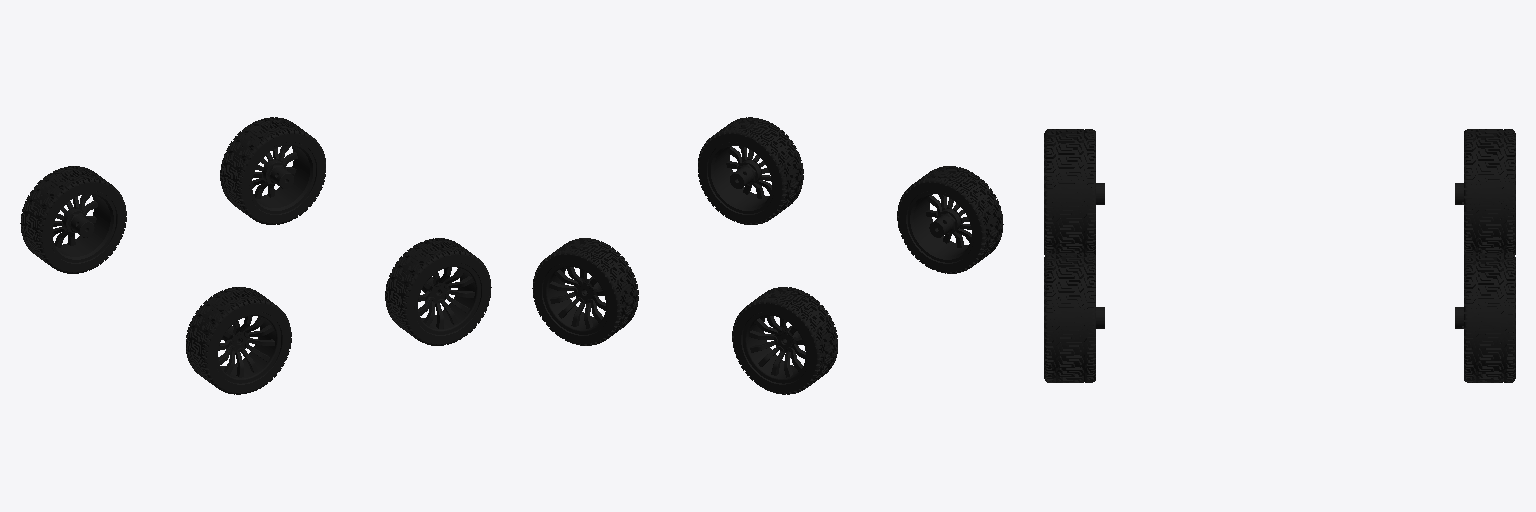
The robot description file, URDF, robot "ratze":
<robot name="ratze" version="1.0">
  <joint name="base_link_joint" type="fixed">
    <origin rpy="0.00000 0.00000 0.00000" xyz="-0.00000 0.00000 0.00000"/>
    <parent link="base_link"/>
    <child link="base_joint"/>
  </joint>
  <joint name="motor_2_joint" type="continuous">
    <limit effort="0.00000" velocity="0.00000"/>
    <origin rpy="0.00000 0.00000 0.00000" xyz="0.07687 0.11040 0.02150"/>
    <parent link="base_joint"/>
    <child link="motor_2"/>
    <axis xyz="0.00000 1.00000 0.00000"/>
  </joint>
  <joint name="ray_6" type="fixed">
    <origin rpy="0.00000 0.00000 1.04720" xyz="0.11600 0.05959 0.07143"/>
    <parent link="base_joint"/>
    <child link="ray_6_link"/>
  </joint>
  <joint name="ray_7" type="fixed">
    <origin rpy="0.00000 0.00000 1.57080" xyz="0.08072 0.06952 0.07143"/>
    <parent link="base_joint"/>
    <child link="ray_7_link"/>
  </joint>
  <joint name="motor_3_joint" type="continuous">
    <limit effort="0.00000" velocity="0.00000"/>
    <origin rpy="0.00000 0.00000 0.00000" xyz="-0.07688 0.11039 0.02150"/>
    <parent link="base_joint"/>
    <child link="motor_3"/>
    <axis xyz="0.00000 1.00000 0.00000"/>
  </joint>
  <joint name="motor_4_joint" type="continuous">
    <limit effort="0.00000" velocity="0.00000"/>
    <origin rpy="0.00000 0.00000 0.00000" xyz="-0.07688 -0.11040 0.02149"/>
    <parent link="base_joint"/>
    <child link="motor_4"/>
    <axis xyz="0.00000 -1.00000 0.00000"/>
  </joint>
  <joint name="motor_joint_1" type="continuous">
    <limit effort="0.00000" velocity="0.00000"/>
    <origin rpy="0.00000 0.00000 0.00000" xyz="0.07687 -0.11040 0.02149"/>
    <parent link="base_joint"/>
    <child link="motor_1"/>
    <axis xyz="0.00000 -1.00000 0.00000"/>
  </joint>
  <joint name="ray_1" type="fixed">
    <origin rpy="0.00000 0.00000 -1.57080" xyz="0.08177 -0.06874 0.07143"/>
    <parent link="base_joint"/>
    <child link="ray_1_link"/>
  </joint>
  <joint name="ray_2" type="fixed">
    <origin rpy="0.00000 0.00000 -1.04720" xyz="0.11585 -0.05960 0.07143"/>
    <parent link="base_joint"/>
    <child link="ray_2_link"/>
  </joint>
  <joint name="ray_3" type="fixed">
    <origin rpy="0.00000 0.00000 -0.52360" xyz="0.14198 -0.03445 0.07143"/>
    <parent link="base_joint"/>
    <child link="ray_3_link"/>
  </joint>
  <joint name="ray_4" type="fixed">
    <origin rpy="0.00000 0.00000 0.00000" xyz="0.14891 -0.00000 0.07143"/>
    <parent link="base_joint"/>
    <child link="ray_4_link"/>
  </joint>
  <joint name="ray_5" type="fixed">
    <origin rpy="0.00000 0.00000 0.52360" xyz="0.14058 0.03257 0.07143"/>
    <parent link="base_joint"/>
    <child link="ray_5_link"/>
  </joint>
  <link name="base_link">
    <collision name="base_collision">
      <origin rpy="0.00000 0.00000 0.00000" xyz="0.02306 0.00000 0.06275"/>
      <geometry>
        <box size="0.26612 0.18000 0.12550"/>
      </geometry>
    </collision>
    <inertial>
      <inertia ixx="0.00166" ixy="0.00000" ixz="-0.00000" iyy="0.00219" iyz="0.00000" izz="0.00256"/>
      <origin rpy="0.00000 0.00000 0.00000" xyz="0.00284 0.00001 0.04705"/>
      <mass value="0.50000"/>
    </inertial>
    <visual name="base">
      <material name="Material.001"/>
      <origin rpy="0.00000 0.00000 0.00000" xyz="0.00000 0.00000 0.00000"/>
      <geometry>
        <mesh filename="package://ratze_description/meshes/stl/base.stl" scale="1.00000 1.00000 1.00000"/>
      </geometry>
    </visual>
  </link>
  <link name="base_joint">
    <sensor name="imu" type="imu">
      <parent link="base_joint"/>
    </sensor>
  </link>
  <link name="ray_5_link"/>
  <link name="ray_6_link"/>
  <link name="ray_7_link"/>
  <link name="motor_2">
    <collision name="wheel_2_collision">
      <origin rpy="1.57080 0.00000 0.00000" xyz="0.00000 -0.00014 0.00000"/>
      <geometry>
        <cylinder radius="0.03400" length="0.03175"/>
      </geometry>
    </collision>
    <inertial>
      <inertia ixx="0.00003" ixy="0.00000" ixz="0.00000" iyy="0.00003" iyz="0.00000" izz="0.00003"/>
      <origin rpy="0.00000 0.00000 0.00000" xyz="0.00000 0.00000 0.00000"/>
      <mass value="0.05000"/>
    </inertial>
    <visual name="wheel_2">
      <material name="Material.002"/>
      <origin rpy="0.00000 0.00000 0.00000" xyz="0.00000 0.00000 0.00000"/>
      <geometry>
        <mesh filename="package://ratze_description/meshes/stl/wheel_2.stl" scale="1.00000 1.00000 1.00000"/>
      </geometry>
    </visual>
  </link>
  <link name="motor_3">
    <collision name="wheel_3_collision">
      <origin rpy="1.57080 0.00000 0.00000" xyz="0.00000 -0.00014 0.00000"/>
      <geometry>
        <cylinder radius="0.03400" length="0.03175"/>
      </geometry>
    </collision>
    <inertial>
      <inertia ixx="0.00003" ixy="0.00000" ixz="0.00000" iyy="0.00003" iyz="0.00000" izz="0.00003"/>
      <origin rpy="0.00000 0.00000 0.00000" xyz="-0.00000 0.00000 0.00000"/>
      <mass value="0.05000"/>
    </inertial>
    <visual name="wheel_3">
      <material name="Material.002"/>
      <origin rpy="0.00000 0.00000 0.00000" xyz="0.00000 0.00000 0.00000"/>
      <geometry>
        <mesh filename="package://ratze_description/meshes/stl/wheel_3.stl" scale="1.00000 1.00000 1.00000"/>
      </geometry>
    </visual>
  </link>
  <link name="motor_4">
    <collision name="wheel_4_collision">
      <origin rpy="1.57080 0.00000 0.00000" xyz="0.00000 0.00014 0.00000"/>
      <geometry>
        <cylinder radius="0.03400" length="0.03175"/>
      </geometry>
    </collision>
    <inertial>
      <inertia ixx="0.00003" ixy="0.00000" ixz="0.00000" iyy="0.00003" iyz="0.00000" izz="0.00003"/>
      <origin rpy="0.00000 0.00000 0.00000" xyz="-0.00000 -0.00000 0.00000"/>
      <mass value="0.05000"/>
    </inertial>
    <visual name="wheel_4">
      <material name="Material.002"/>
      <origin rpy="0.00000 0.00000 0.00000" xyz="0.00000 0.00000 0.00000"/>
      <geometry>
        <mesh filename="package://ratze_description/meshes/stl/wheel_4.stl" scale="1.00000 1.00000 1.00000"/>
      </geometry>
    </visual>
  </link>
  <link name="motor_1">
    <collision name="wheel_1_collision">
      <origin rpy="1.57080 0.00000 0.00000" xyz="0.00000 0.00014 0.00000"/>
      <geometry>
        <cylinder radius="0.03400" length="0.03175"/>
      </geometry>
    </collision>
    <inertial>
      <inertia ixx="0.00003" ixy="0.00000" ixz="0.00000" iyy="0.00003" iyz="0.00000" izz="0.00003"/>
      <origin rpy="0.00000 0.00000 0.00000" xyz="0.00000 0.00000 0.00000"/>
      <mass value="0.05000"/>
    </inertial>
    <visual name="wheel_1">
      <material name="Material.002"/>
      <origin rpy="0.00000 0.00000 0.00000" xyz="0.00000 0.00000 0.00000"/>
      <geometry>
        <mesh filename="package://ratze_description/meshes/stl/wheel_1.stl" scale="1.00000 1.00000 1.00000"/>
      </geometry>
    </visual>
  </link>
  <link name="ray_1_link"/>
  <link name="ray_2_link"/>
  <link name="ray_3_link"/>
  <link name="ray_4_link"/>
  <material name="Material.001">
    <color rgba="0.45098 0.45098 0.45098 1.00000"/>
  </material>
  <material name="Material.002">
    <color rgba="0.13725 0.13725 0.13725 1.00000"/>
  </material>
</robot>

--- What the picture shows (computed from the rendered views, not written in the file) ---
3 views of the same robot in one strip: view 1: azimuth 30°, elevation 25°; view 2: azimuth 150°, elevation 25°; view 3: azimuth 270°, elevation 25° (orthographic).
Robot: ratze — 13 links, 12 joints (4 continuous, 8 fixed); root link base_link; default pose: all joints at 0.
Links seen in each view (by area): view 1: motor_2, motor_3, motor_1, motor_4; view 2: motor_3, motor_2, motor_4, motor_1; view 3: motor_2, motor_1, motor_4, motor_3.
Link boxes in pixels (x1,y1,x2,y2): motor_2: (220,117,325,224); motor_3: (20,166,126,273); motor_1: (385,238,491,345); motor_4: (186,287,291,394); motor_3: (732,287,837,394); motor_2: (532,238,638,345); motor_4: (897,166,1003,273); motor_1: (698,117,803,224); motor_2: (1455,253,1515,382); motor_1: (1044,253,1104,382); motor_4: (1044,129,1104,254); motor_3: (1455,129,1515,254).
Bounding box of the posed robot: 0.2218 × 0.2471 × 0.068 m (x, y, z).
Meshes: 5 distinct files referenced, 4 mesh visuals loaded (4 binary STL); not drawn: 1 (reference not matched to a file when rendering).
